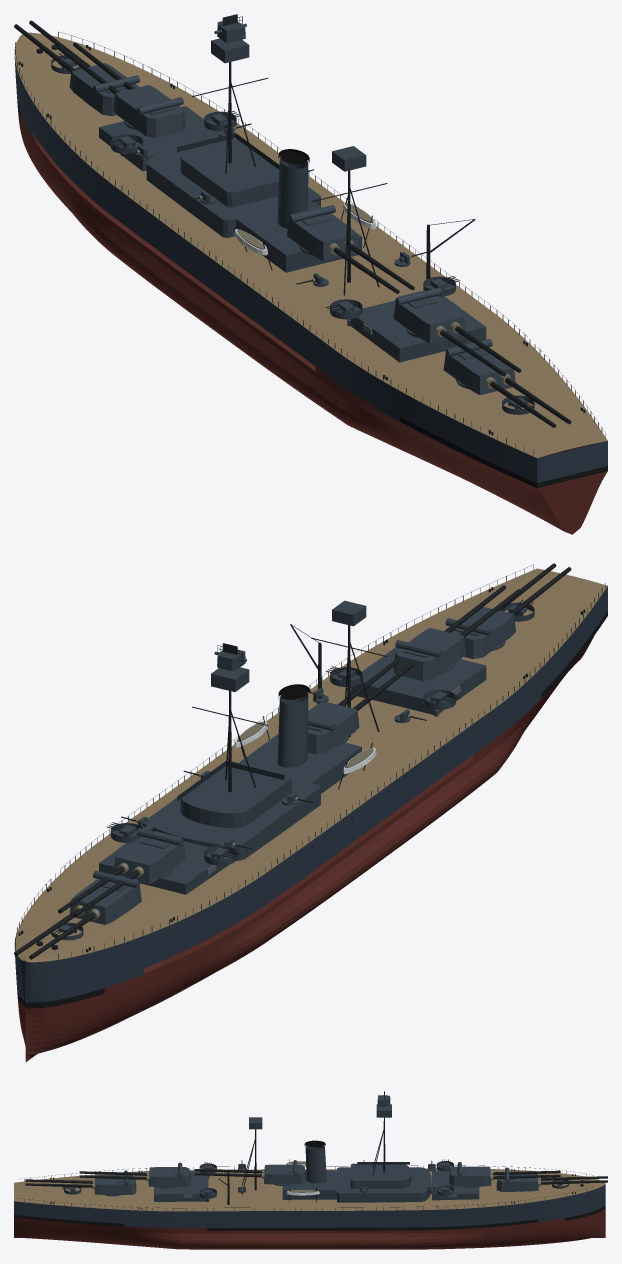
The model's file is texas.glb.
The picture shows the model from 3 angles, top to bottom: view 1: azimuth 30°, elevation 25°; view 2: azimuth 150°, elevation 25°; view 3: azimuth 270°, elevation 25°; orthographic projection. The views are drawn at different scales.
Parts seen in each view (by area): view 1: Hull, Turret2, Turret4, Turret3, Turret5, Turret1; view 2: Hull, Turret4, Turret2, Turret1, Turret3, Turret5; view 3: Hull, Turret4, Turret3, Turret2, Turret5, Turret1.
Boxes of the visible parts, bbox=[...] form: Hull: bbox=[14, 16, 607, 534]; Turret2: bbox=[58, 42, 185, 137]; Turret4: bbox=[393, 287, 521, 376]; Turret3: bbox=[287, 205, 414, 293]; Turret5: bbox=[443, 339, 571, 427]; Turret1: bbox=[14, 20, 139, 116]; Hull: bbox=[14, 564, 607, 1061]; Turret4: bbox=[393, 585, 521, 680]; Turret2: bbox=[58, 828, 185, 917]; Turret1: bbox=[14, 870, 141, 959]; Turret3: bbox=[308, 658, 414, 754]; Turret5: bbox=[445, 563, 571, 658]; Hull: bbox=[14, 1104, 605, 1249]; Turret4: bbox=[79, 1162, 190, 1188]; Turret3: bbox=[194, 1160, 305, 1185]; Turret2: bbox=[449, 1162, 560, 1187]; Turret5: bbox=[25, 1170, 136, 1196]; Turret1: bbox=[496, 1167, 607, 1191].
Size of the model in its own units: 32.79 by 47.18 by 175.
